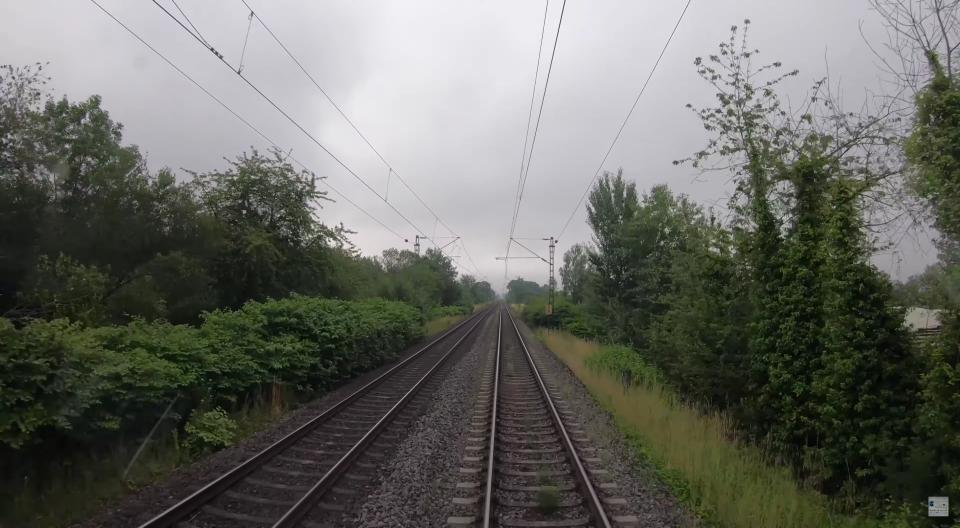Plant: (588, 389, 715, 528), (553, 379, 612, 466), (535, 486, 562, 515), (535, 467, 551, 483), (526, 334, 542, 344), (524, 418, 535, 430), (505, 363, 513, 376)
